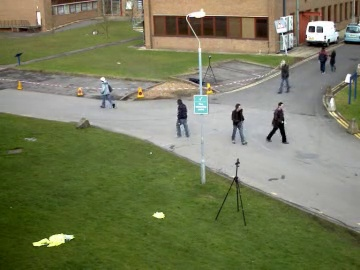person: (266, 101, 286, 143), (267, 101, 286, 144), (99, 78, 114, 108)
